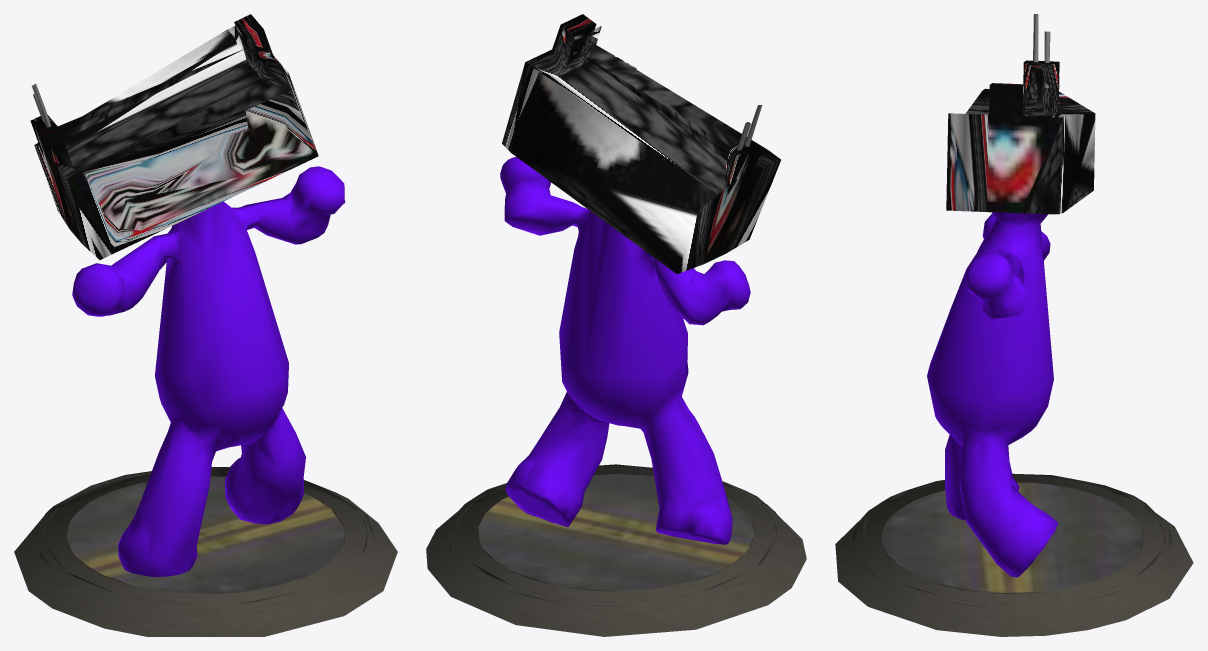
3 views of the same model, side by side, from view 1: azimuth 30°, elevation 25°; view 2: azimuth 150°, elevation 25°; view 3: azimuth 270°, elevation 25° (orthographic). The views are drawn at different scales.
Size of the model in its own units: 1.44 by 2.19 by 1.43.
5 materials, 3 textured.
